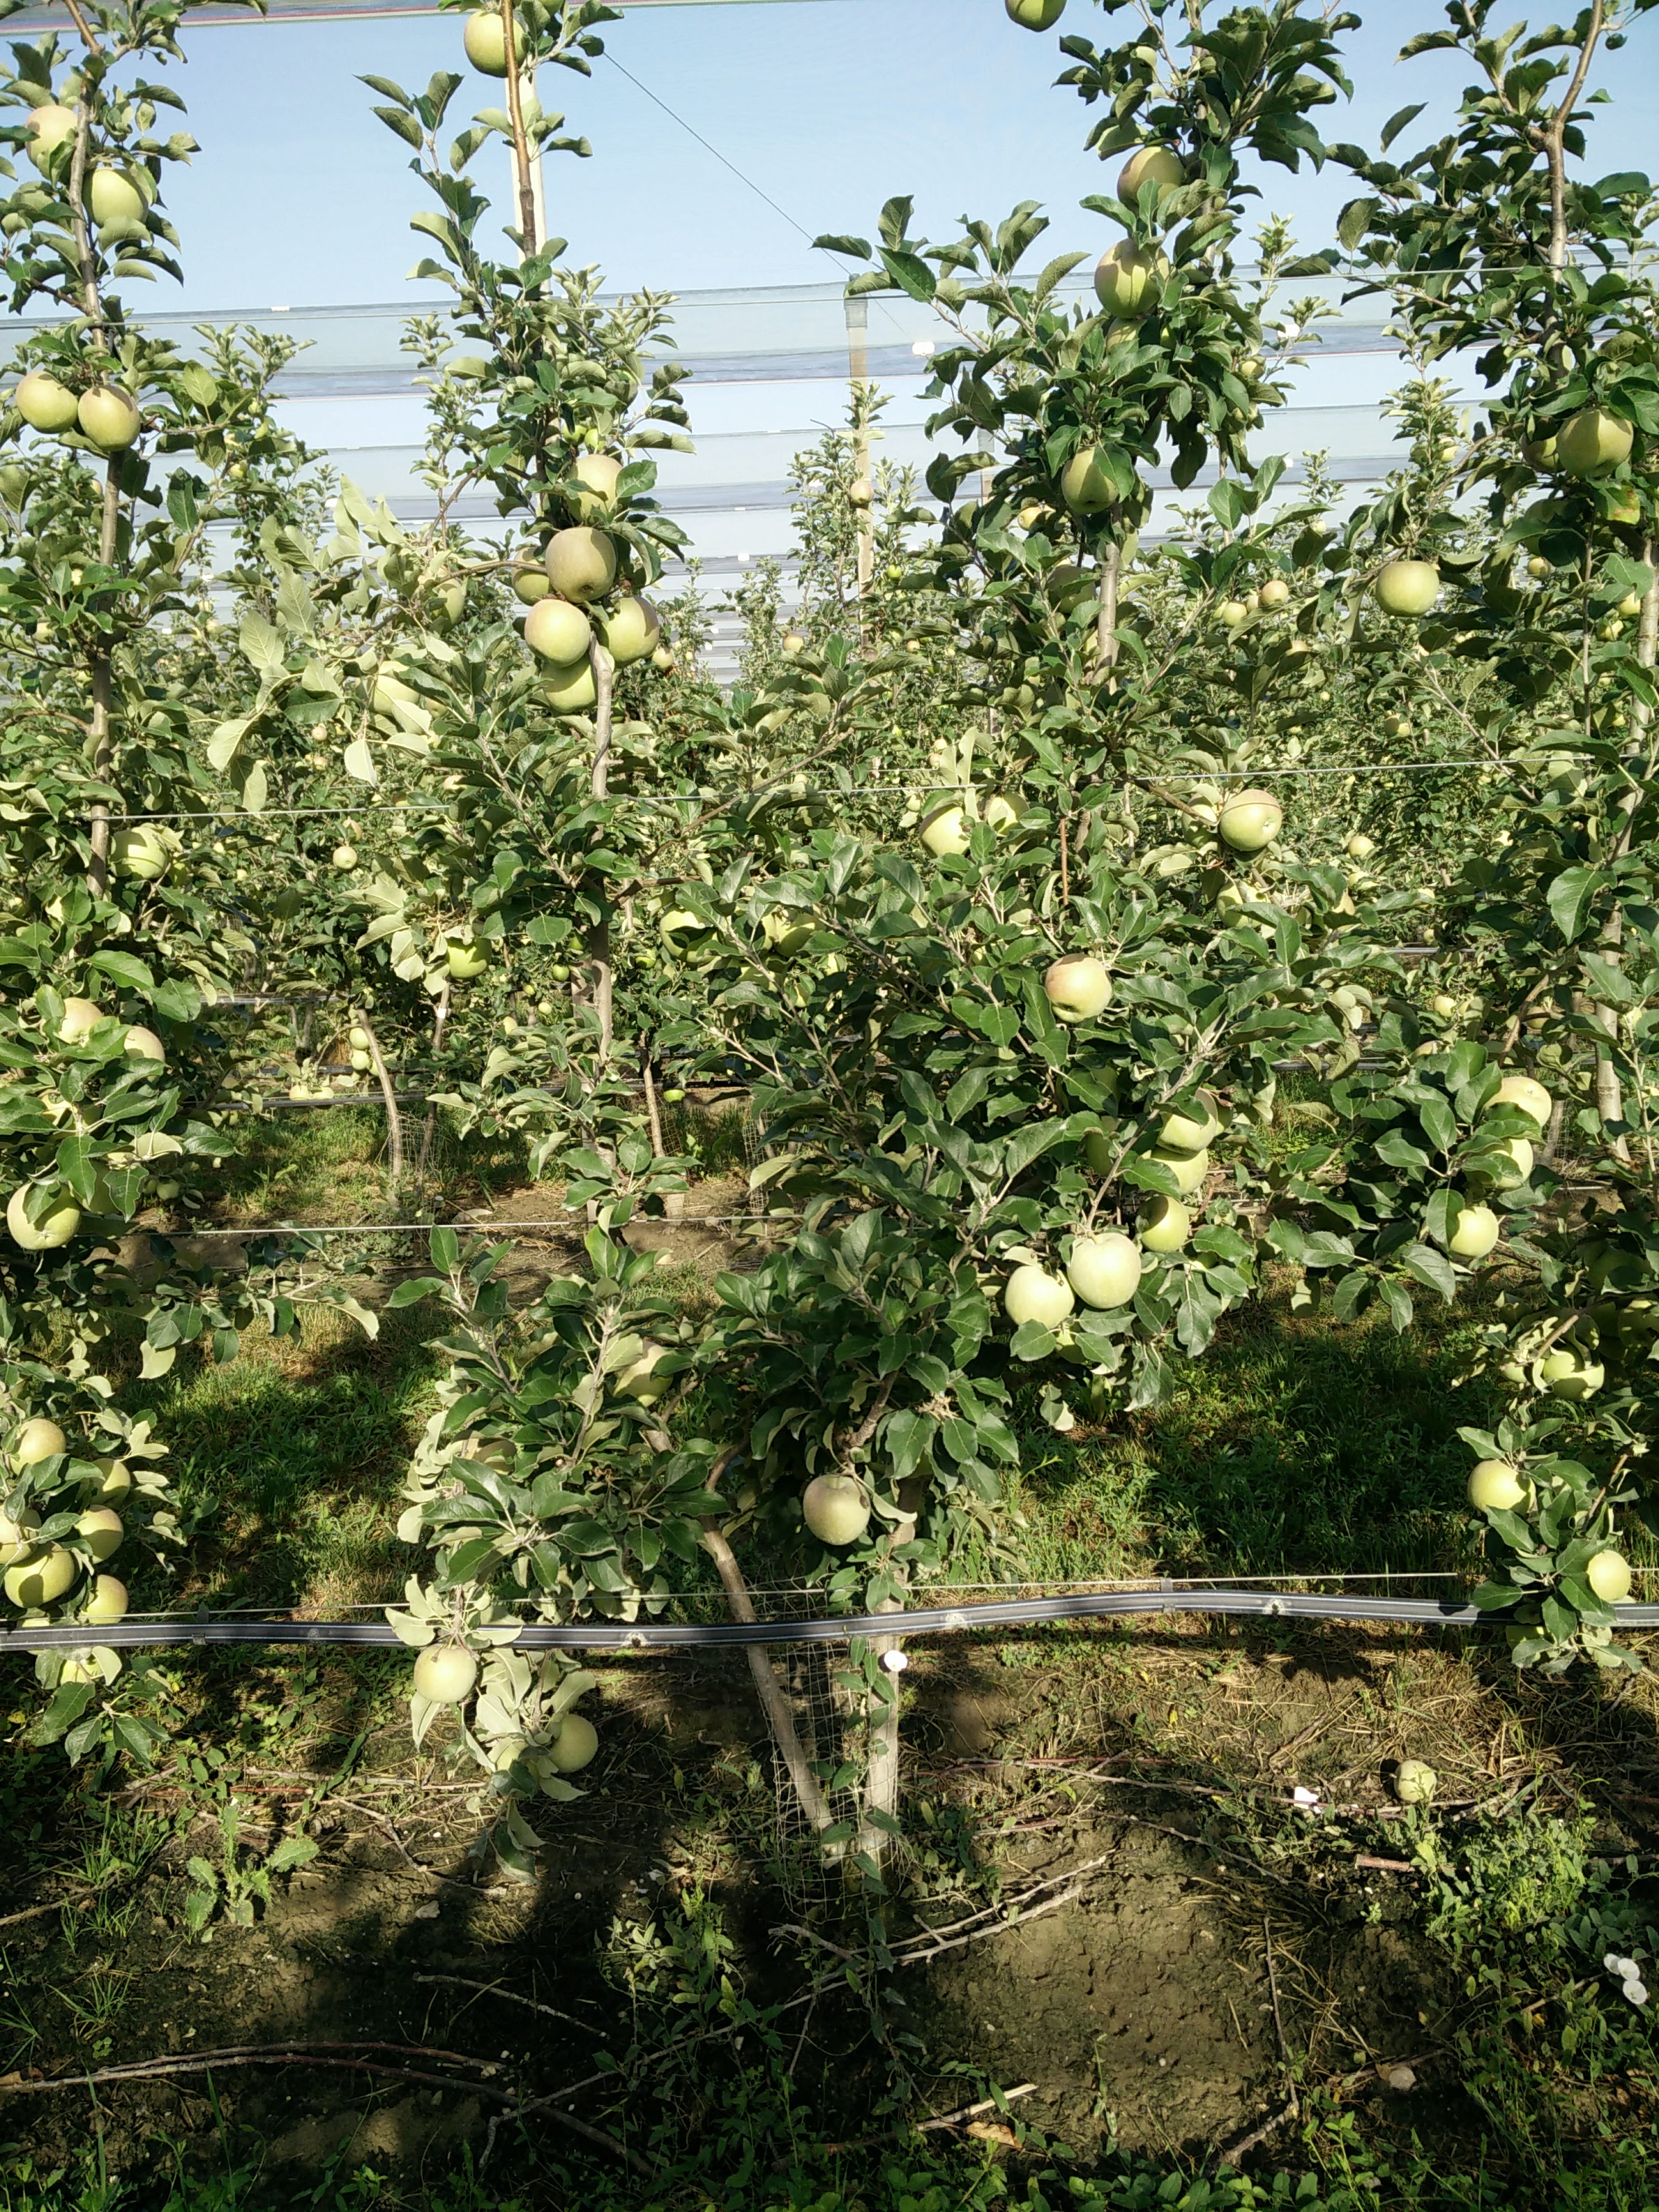apple: (1094, 238, 1179, 320), (1555, 398, 1638, 478), (5, 1173, 84, 1257), (1060, 1231, 1143, 1310), (541, 525, 622, 603), (554, 453, 637, 527), (13, 359, 91, 439), (796, 1471, 877, 1548), (587, 597, 664, 673), (521, 592, 596, 671), (1480, 1072, 1558, 1147), (465, 6, 543, 78), (3, 1539, 78, 1612), (84, 155, 155, 232), (1052, 443, 1125, 519), (21, 99, 95, 171), (1004, 1263, 1080, 1333), (1042, 951, 1115, 1022), (529, 1715, 607, 1782), (1432, 1197, 1506, 1265), (1209, 789, 1291, 849), (1463, 1458, 1537, 1523), (78, 383, 146, 452), (1379, 552, 1442, 626), (1114, 149, 1185, 215), (409, 1642, 475, 1703), (1580, 1546, 1637, 1611)
